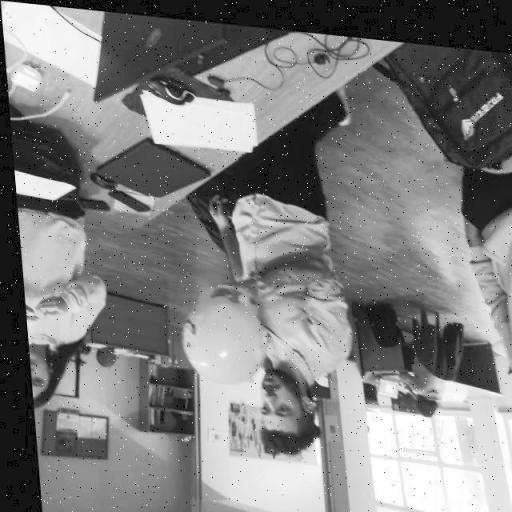balloon: (175, 281, 263, 384)
